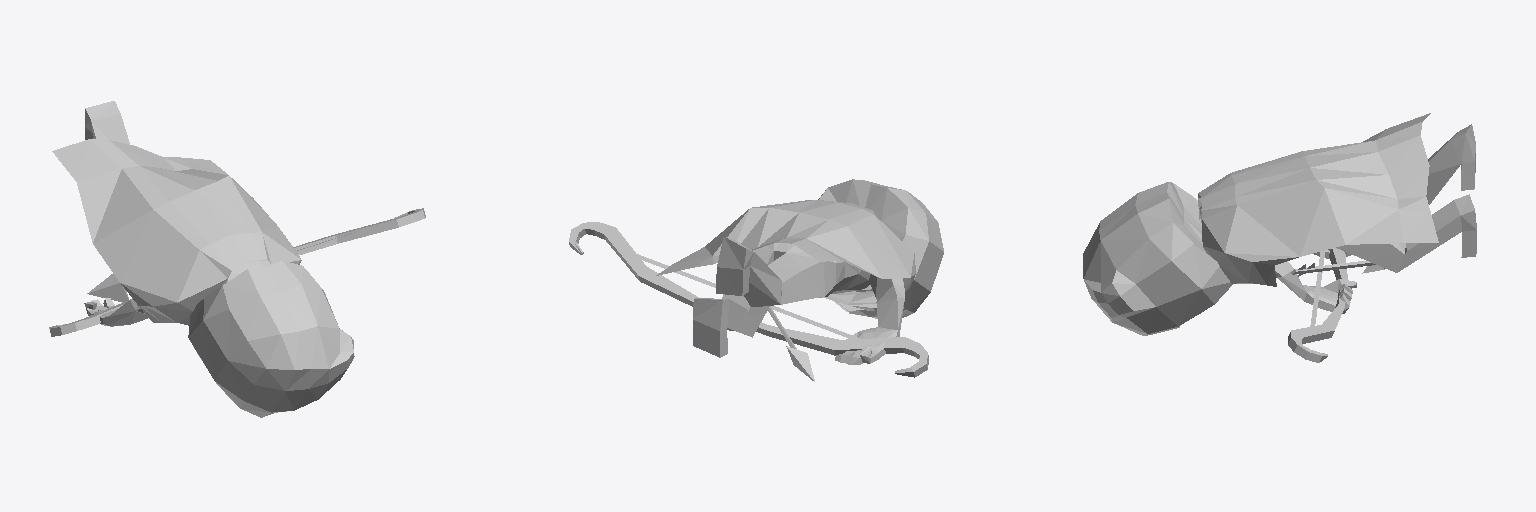
The model's file is ranger_wounded.obj.
3 renders of one model, left to right at view 1: azimuth 30°, elevation 25°; view 2: azimuth 150°, elevation 25°; view 3: azimuth 270°, elevation 25°, orthographic.
Parts seen in each view (by area): view 1: male.004_Plane.012; view 2: male.004_Plane.012; view 3: male.004_Plane.012.
Part boxes in pixels (x1,y1,x2,y2): male.004_Plane.012: (49,101,425,417); male.004_Plane.012: (569,179,943,381); male.004_Plane.012: (1083,113,1476,362).
Size of the model in its own units: 7.76 by 4.04 by 7.26.